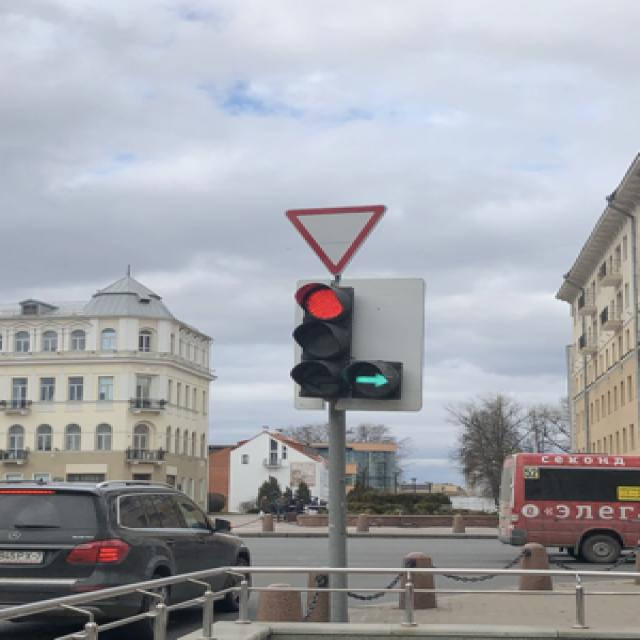trafficlight: (286, 282, 401, 398)
